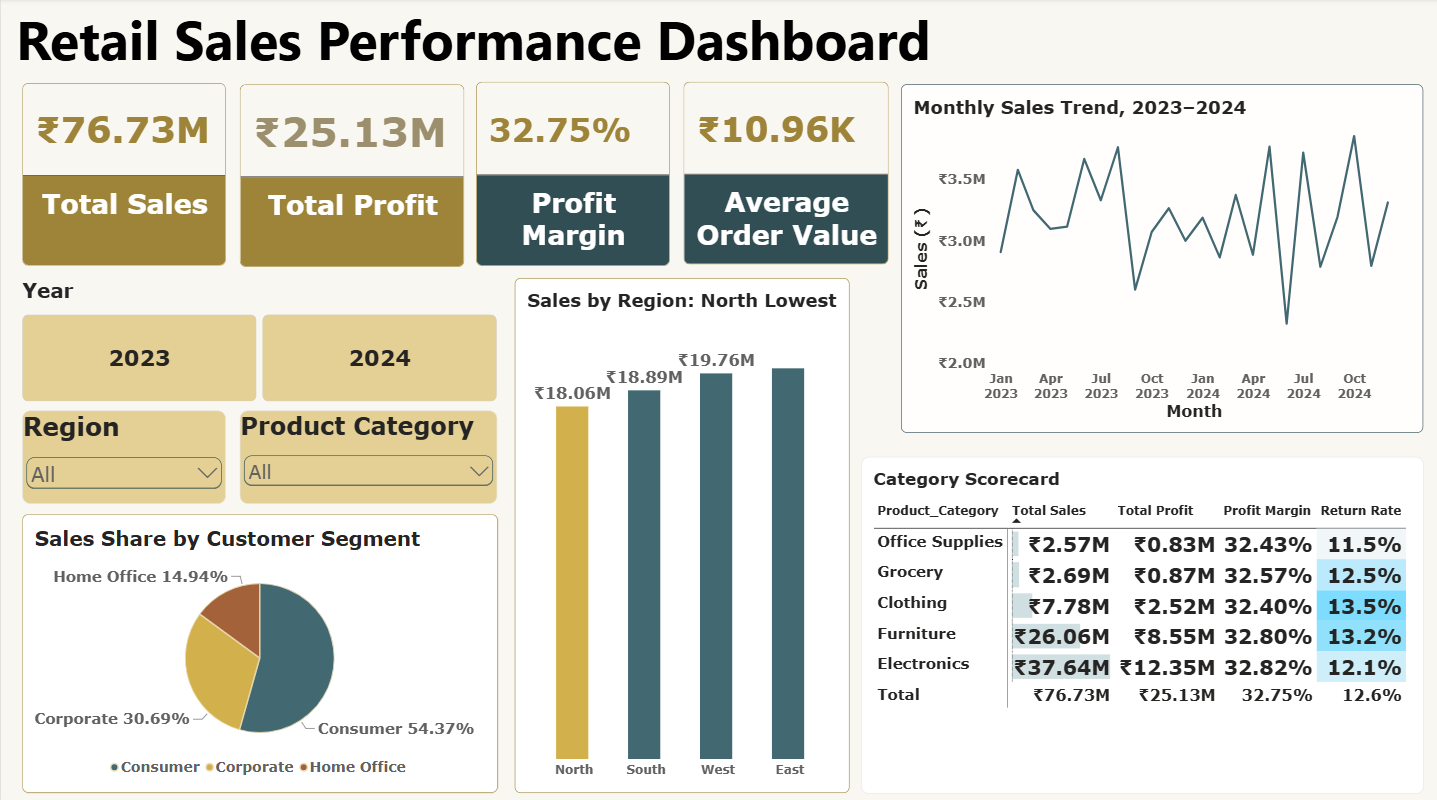

Layout of this report page (visuals, bound fields, positions):
{"tool":"powerbi","page":{"name":"Page 1","canvas":[1920,1080],"ordinal":0},"visuals":[{"type":"cardVisual","fields":{"Data":["RetailSales.Total Sales"]},"box":[28,114,272,244],"z":0},{"type":"cardVisual","fields":{"Data":["RetailSales.Total Profit"]},"box":[318.4,116,300,244.8],"z":1000},{"type":"cardVisual","fields":{"Data":["RetailSales.Average Order Value"]},"box":[911,112.3,274.2,244.8],"z":2000},{"type":"cardVisual","fields":{"Data":["RetailSales.Profit Margin"]},"box":[635,112.3,259.5,246.6],"z":3000},{"type":"textbox","box":[0,4.9,1682.7,106.1],"z":4000},{"type":"advancedSlicerVisual","fields":{"Values":["RetailSales.Year"]},"box":[27.6,373.6,635,165.6],"z":5000},{"type":"pieChart","title":"Sales Share by Customer Segment","fields":{"Category":["RetailSales.Customer_Segment"],"Y":["Retail.Total Sales"]},"box":[27.6,690.2,635,371.8],"z":6000},{"type":"slicer","title":"Region","fields":{"Values":["RetailSales.Region"]},"box":[27.6,550.3,272.4,125.2],"z":8000},{"type":"slicer","title":"Product Category","fields":{"Values":["RetailSales.Product_Category"]},"box":[318.4,550.3,344.2,125.2],"z":9000},{"type":"lineChart","title":"Monthly Sales Trend, 2023–2024","fields":{"Category":["Retail.Order_Month"],"Y":["Retail.Total Sales"]},"box":[1201.8,116,697.5,465.6],"z":10000},{"type":"clusteredColumnChart","title":"Sales by Region: North Lowest","fields":{"Category":["Retail.Region"],"Y":["Retail.Total Sales"]},"box":[686.5,373.6,447.2,688.3],"z":11000},{"type":"pivotTable","title":"Category Scorecard","fields":{"Rows":["Retail.Product_Category"],"Values":["Retail.Total Sales","Retail.Total Profit","Retail.Profit Margin","Retail.Return Rate"]},"box":[1148,612,752,450],"z":12000}]}

Visuals, with their boxes in screenshot pixels (x1, y1, x2, y2), scaled from the page's 1920x1080 canvas onto the 1437x800 screenshot:
cardVisual - RetailSales.Total Sales: 21 84 225 265
cardVisual - RetailSales.Total Profit: 238 86 463 267
cardVisual - RetailSales.Average Order Value: 682 83 887 265
cardVisual - RetailSales.Profit Margin: 475 83 669 266
textbox: 0 4 1259 82
advancedSlicerVisual - RetailSales.Year: 21 277 496 399
"Sales Share by Customer Segment" pieChart: 21 511 496 787
"Region" slicer: 21 408 225 500
"Product Category" slicer: 238 408 496 500
"Monthly Sales Trend, 2023–2024" lineChart: 899 86 1422 431
"Sales by Region: North Lowest" clusteredColumnChart: 514 277 849 787
"Category Scorecard" pivotTable: 859 453 1422 787
